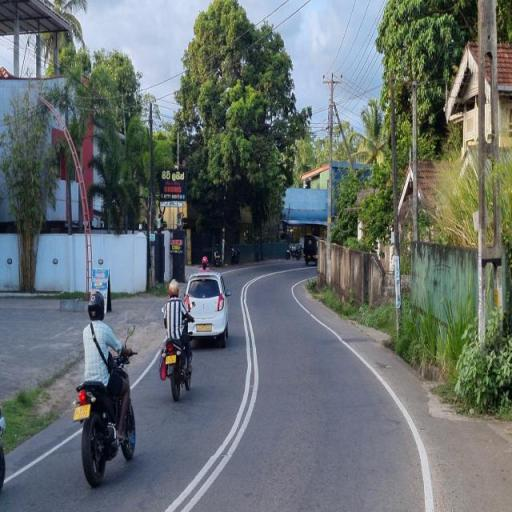double_white_line: (166, 274, 262, 511), (2, 430, 79, 485), (258, 0, 312, 30)
